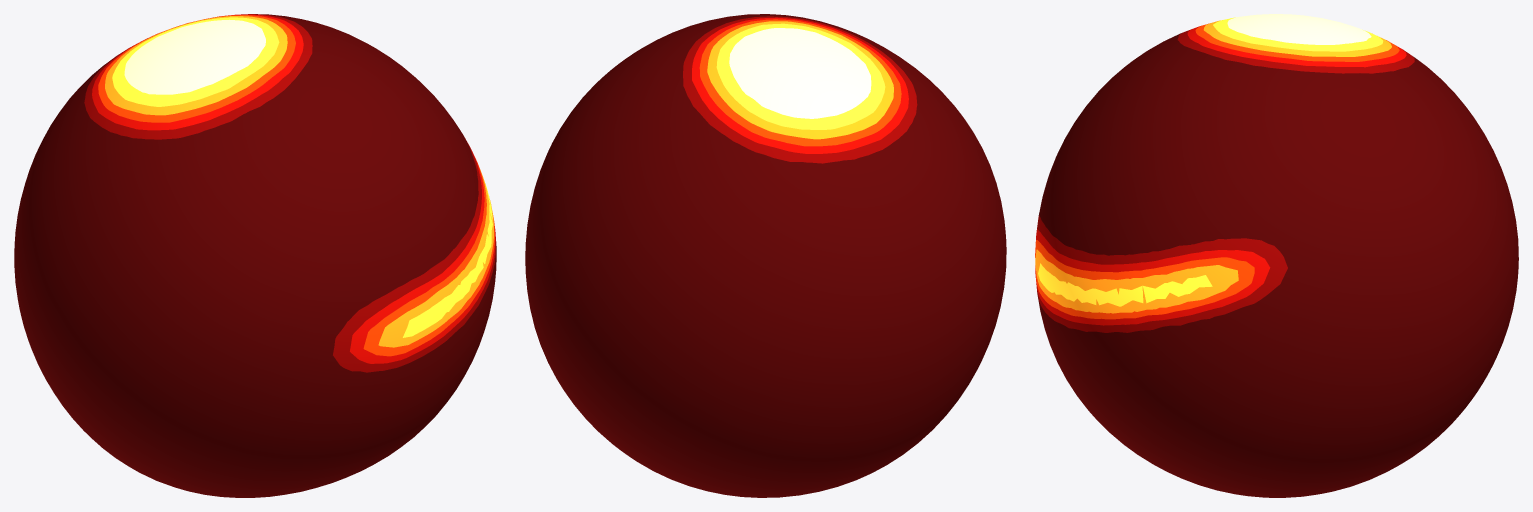
File: molten_crystal_87.glb
3 renders of one model, left to right at view 1: azimuth 30°, elevation 25°; view 2: azimuth 150°, elevation 25°; view 3: azimuth 270°, elevation 25°, orthographic.
Visible parts, largest first — view 1: molten_crystal_87; view 2: molten_crystal_87; view 3: molten_crystal_87.
Boxes of the visible parts, box(x1,y1,x2,y2) form: molten_crystal_87: box(14, 14, 496, 497); molten_crystal_87: box(525, 14, 1006, 497); molten_crystal_87: box(1035, 14, 1518, 497).
Bounding box in the file's own units: 21.07 × 21.2 × 21.14.
